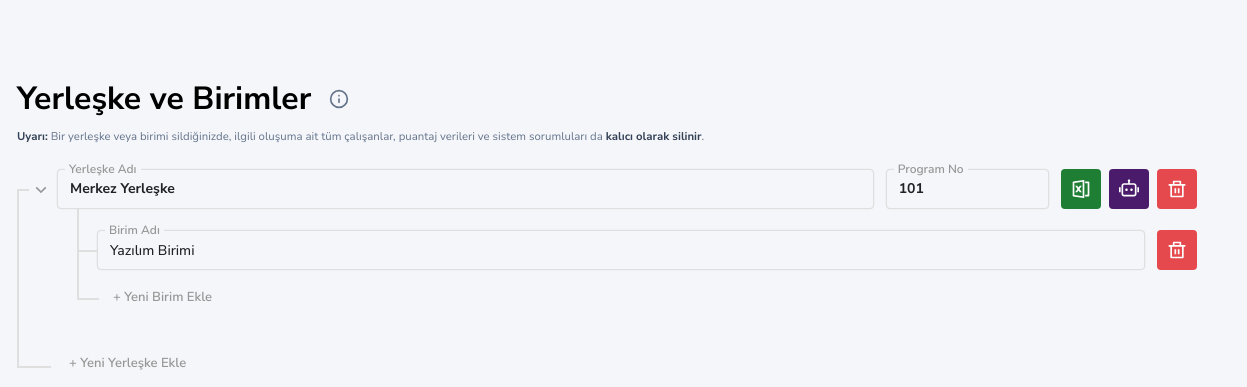
it: LocationsPage (Yerleşke Yönetimi) › yeni (isNew) lokasyon için export butonu tıklandığında toast göstermeli
Click the button titled "Puantaj Export Al": (1081, 189) top-left (1061, 169), bottom-right (1101, 209)
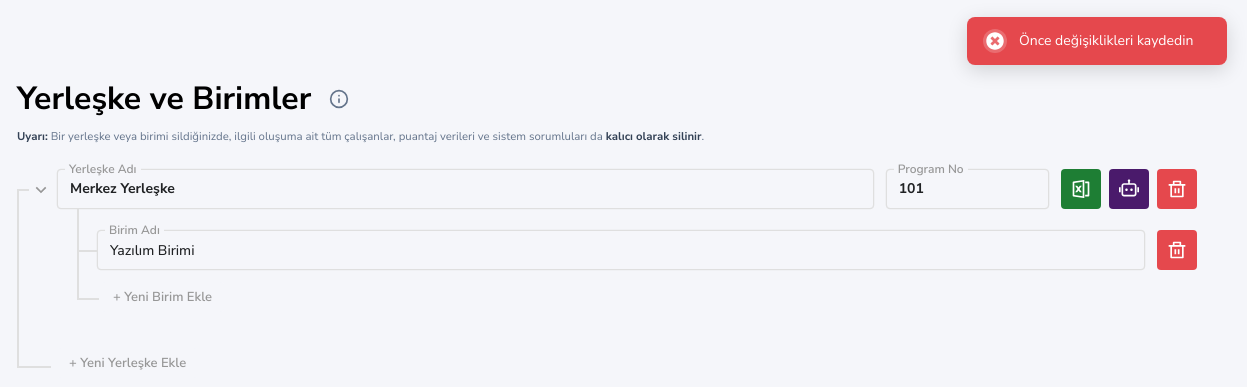
Expected: the text "Önce değişiklikleri kaydedin" is shown, top-left (1019, 31), bottom-right (1211, 51)
